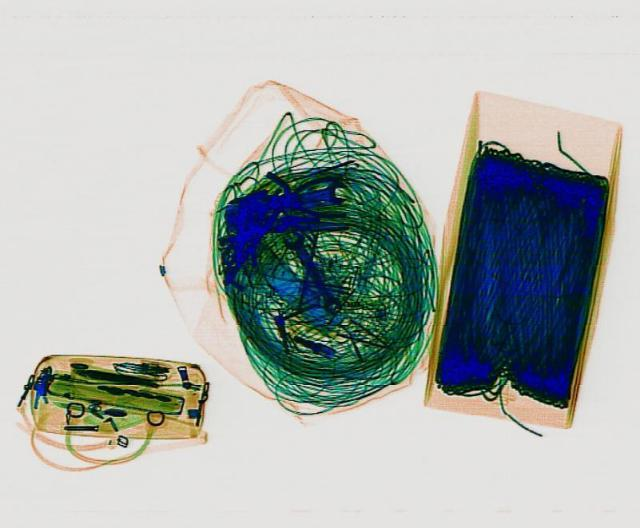Wrench: (278, 229, 348, 315), (282, 179, 348, 209)
